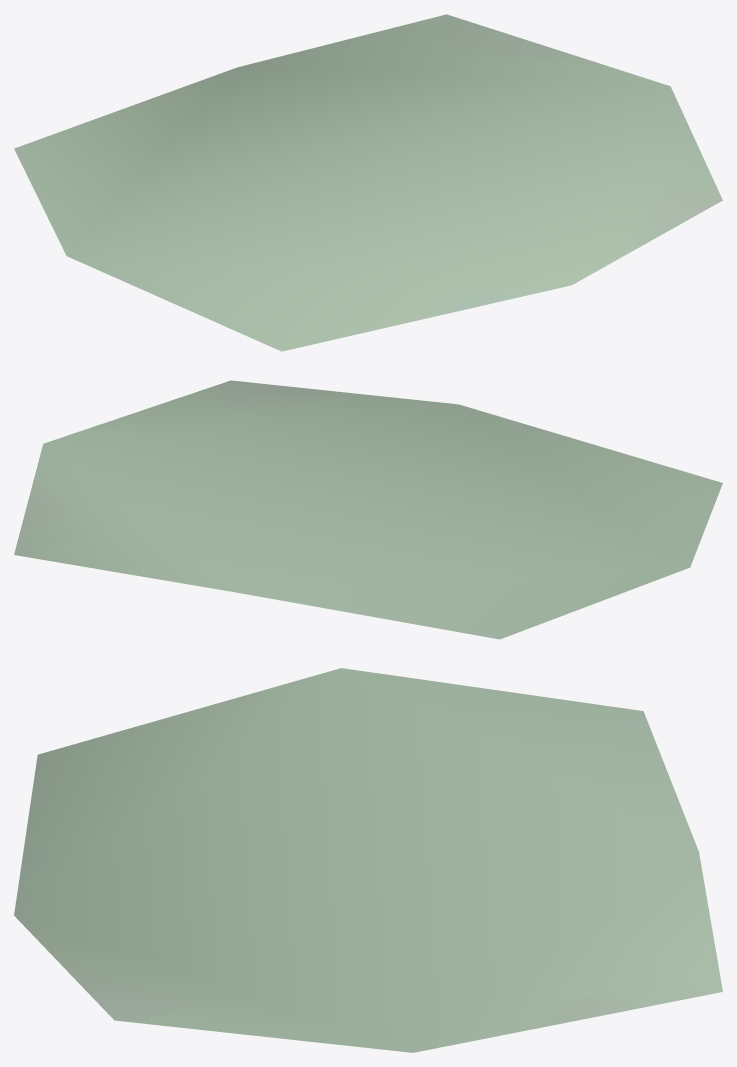
The model's file is TROLLHOLE02_HOLECAP215.fbx.
The picture shows the model from 3 angles, top to bottom: view 1: azimuth 30°, elevation 25°; view 2: azimuth 150°, elevation 25°; view 3: azimuth 270°, elevation 25°; orthographic projection. The views are drawn at different scales.
Visible parts, largest first — view 1: TROLLHOLE02_HOLECAP215; view 2: TROLLHOLE02_HOLECAP215; view 3: TROLLHOLE02_HOLECAP215.
Boxes of the visible parts, x1,y1,x2,y2 form: TROLLHOLE02_HOLECAP215: (14, 14, 722, 351); TROLLHOLE02_HOLECAP215: (14, 380, 722, 639); TROLLHOLE02_HOLECAP215: (14, 668, 722, 1052).
Size of the model in its own units: 16789 by 776 by 13334.
1 material, 1 textured.
